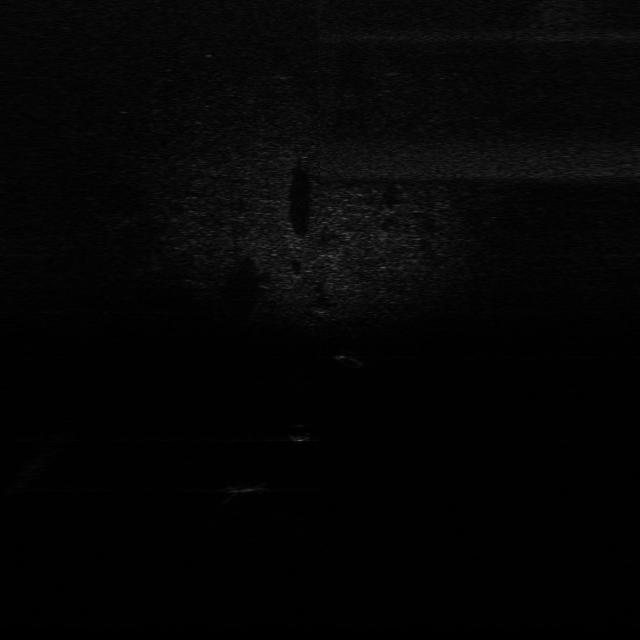ball: (282, 421, 316, 443)
square cage: (224, 476, 270, 498)
tyre: (327, 345, 372, 372)
